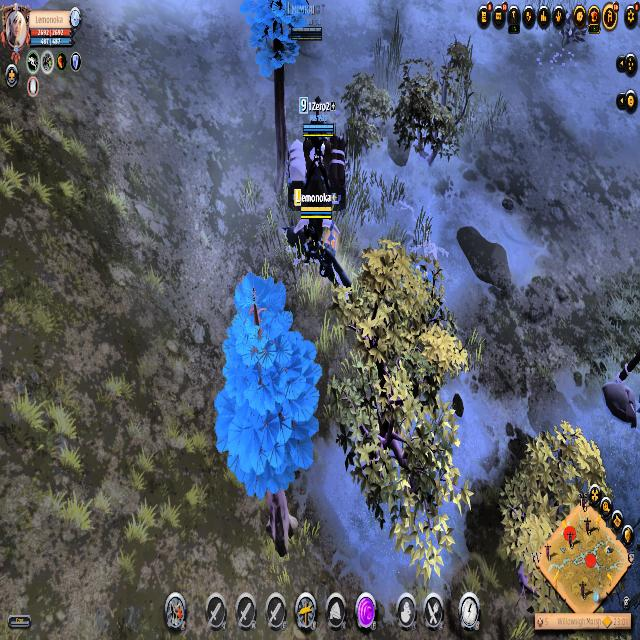wood tier 4: (213, 268, 323, 502)
